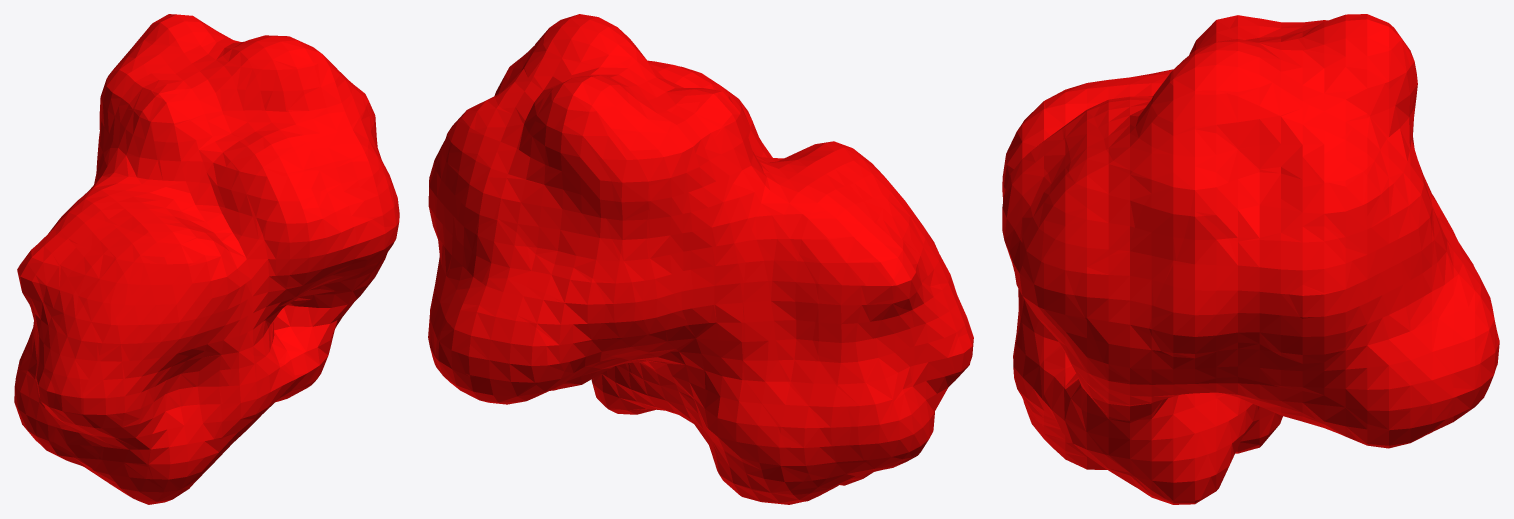
The model's file is nagD_coarse.dae.
3 views of the same model, side by side, from view 1: azimuth 30°, elevation 25°; view 2: azimuth 150°, elevation 25°; view 3: azimuth 270°, elevation 25° (orthographic). The views are drawn at different scales.
Visible parts, largest first — view 1: nagD; view 2: nagD; view 3: nagD.
Part boxes in pixels (x1,y1,x2,y2): nagD: (14, 14, 399, 504); nagD: (428, 14, 973, 504); nagD: (1002, 14, 1499, 504).
Size of the model in its own units: 54.97 by 53.15 by 45.34.
